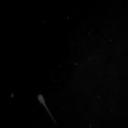fish: (38, 94, 58, 126)
